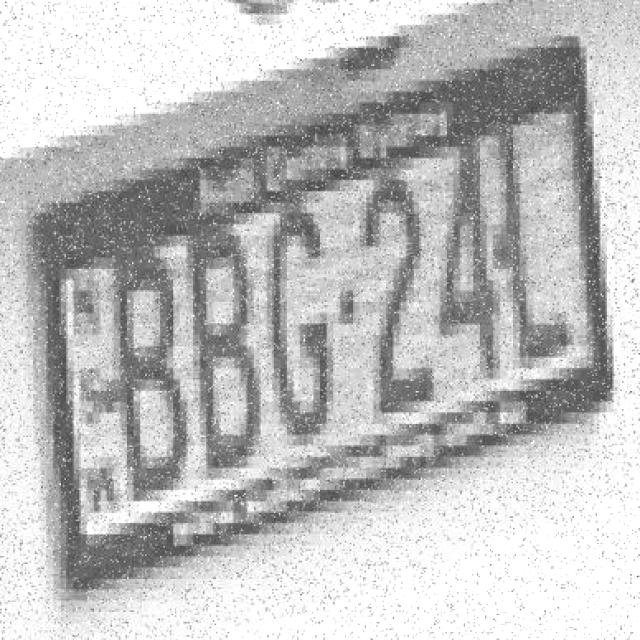licenseplate: (20, 7, 622, 626)
